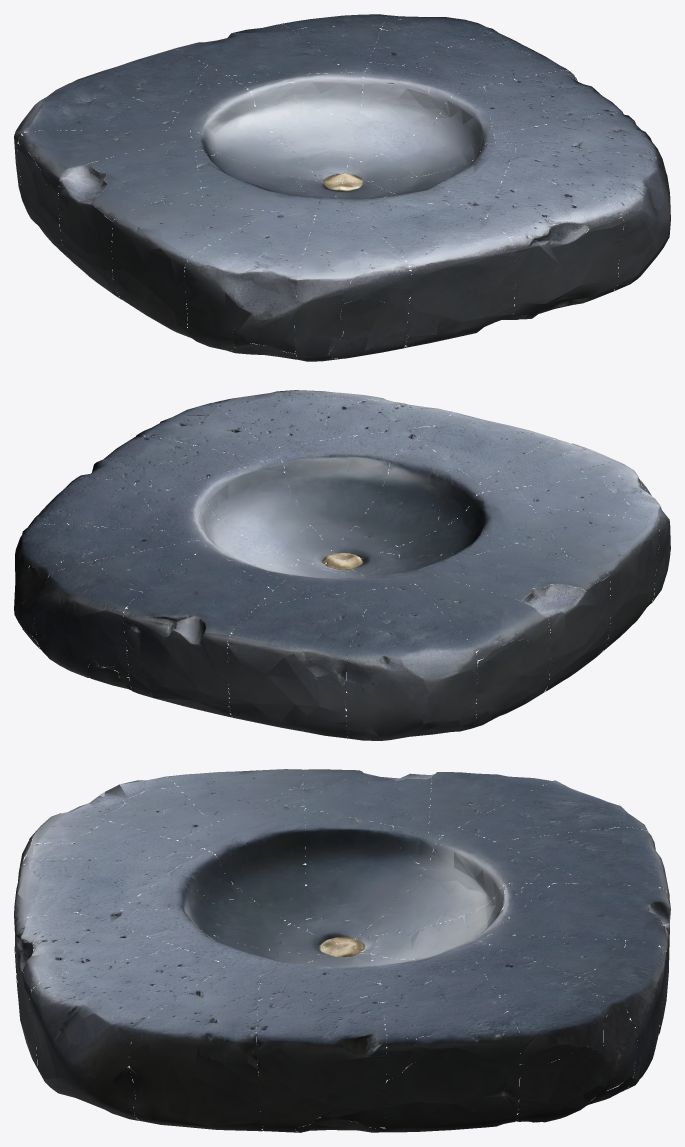
The model's file is stillness-seal-slim.glb.
The picture shows the model from 3 angles, top to bottom: view 1: azimuth 30°, elevation 25°; view 2: azimuth 150°, elevation 25°; view 3: azimuth 270°, elevation 25°; orthographic projection. The views are drawn at different scales.
Visible parts, largest first — view 1: tripo_node_ba86dd3d-90a5-44eb-854f-d772eeee310d; view 2: tripo_node_ba86dd3d-90a5-44eb-854f-d772eeee310d; view 3: tripo_node_ba86dd3d-90a5-44eb-854f-d772eeee310d.
Part boxes in pixels (bbox=[...]): tripo_node_ba86dd3d-90a5-44eb-854f-d772eeee310d: bbox=[14, 14, 670, 361]; tripo_node_ba86dd3d-90a5-44eb-854f-d772eeee310d: bbox=[14, 390, 670, 740]; tripo_node_ba86dd3d-90a5-44eb-854f-d772eeee310d: bbox=[14, 769, 670, 1132].
Size of the model in its own units: 0.9969 by 0.2079 by 1.
1 material, 1 textured.
